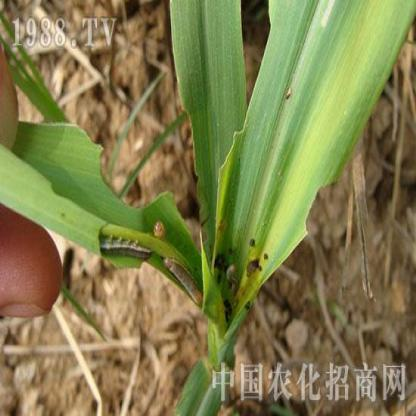armyworm: (164, 249, 209, 318), (92, 224, 156, 260), (225, 265, 247, 301)
